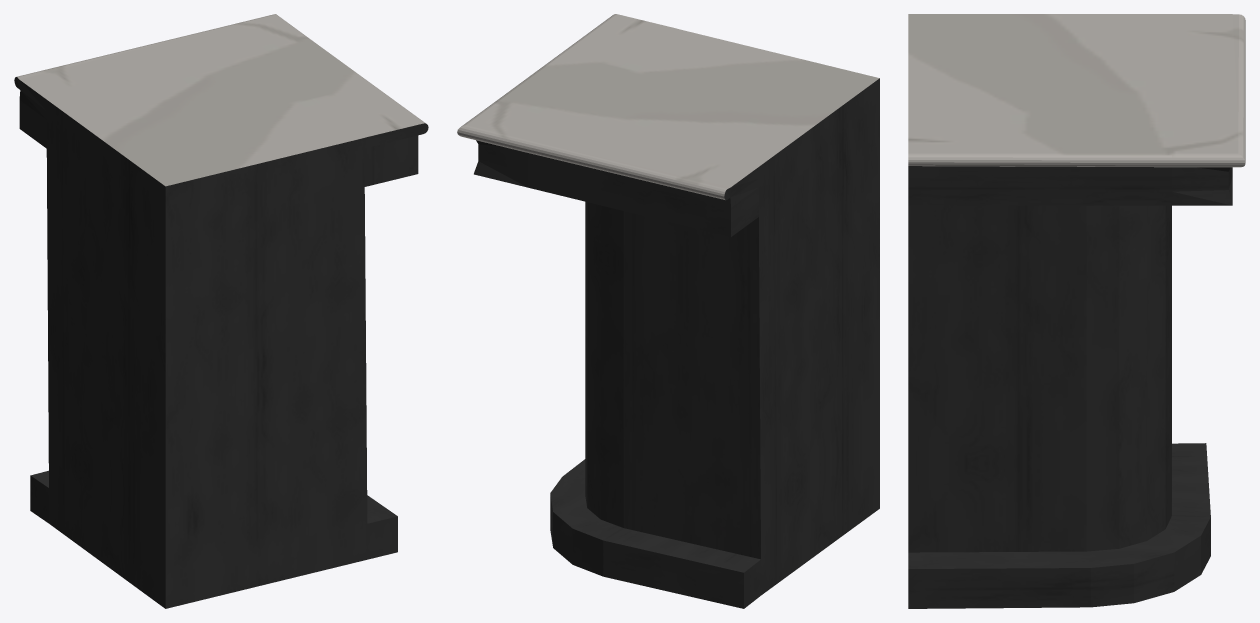
Rendered from countertopcorner.fbx.
3 views of the same model, side by side, from view 1: azimuth 30°, elevation 25°; view 2: azimuth 150°, elevation 25°; view 3: azimuth 270°, elevation 25° (orthographic). The views are drawn at different scales.
Visible parts, largest first — view 1: Corner; view 2: Corner; view 3: Corner.
Part boxes in pixels (left/top/right/bottom): Corner: left=14, top=14, right=428, bottom=608; Corner: left=457, top=14, right=879, bottom=608; Corner: left=908, top=14, right=1245, bottom=608.
Bounding box in the file's own units: 2.59 × 3.96 × 2.58.
Materials: 1 (1 with a texture image).
